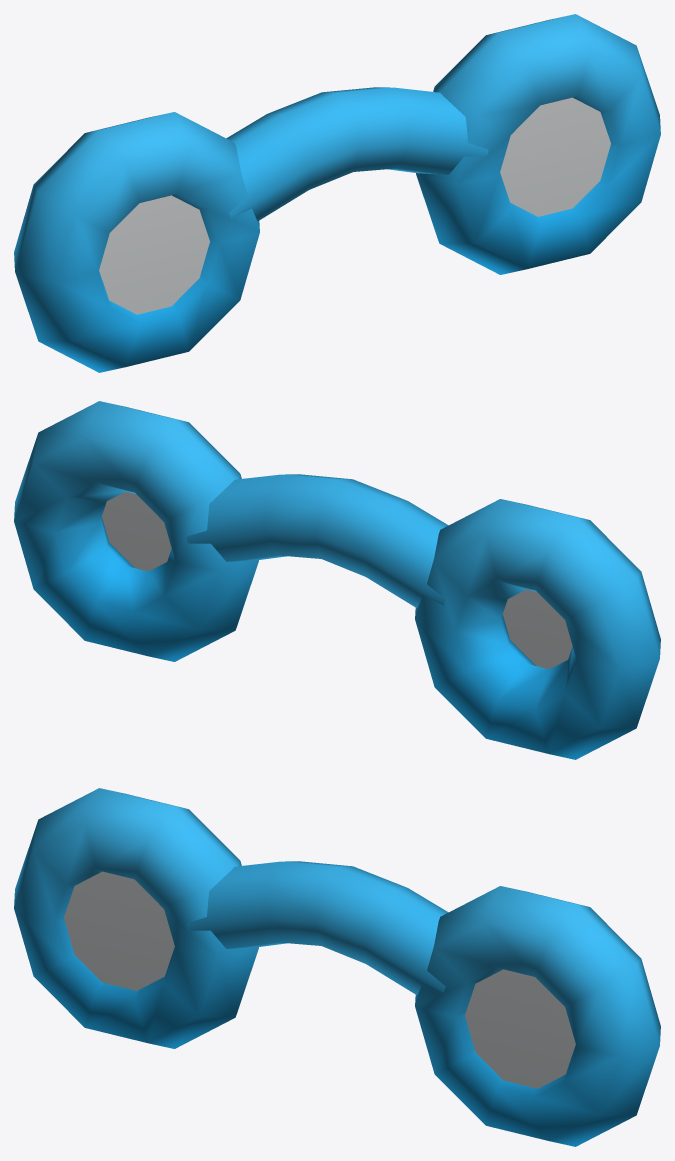
Rendered from Glasses_08.glb.
The picture shows the model from 3 angles, top to bottom: view 1: azimuth 30°, elevation 25°; view 2: azimuth 150°, elevation 25°; view 3: azimuth 330°, elevation 25°; orthographic projection.
Visible parts, largest first — view 1: Glasses_08; view 2: Glasses_08; view 3: Glasses_08.
Boxes of the visible parts, x1=… form: Glasses_08: x1=14, y1=14, x2=660, y2=372; Glasses_08: x1=14, y1=401, x2=660, y2=759; Glasses_08: x1=14, y1=788, x2=660, y2=1146.
Size of the model in its own units: 0.2762 by 0.0993 by 0.0327.
1 material, 1 textured.
